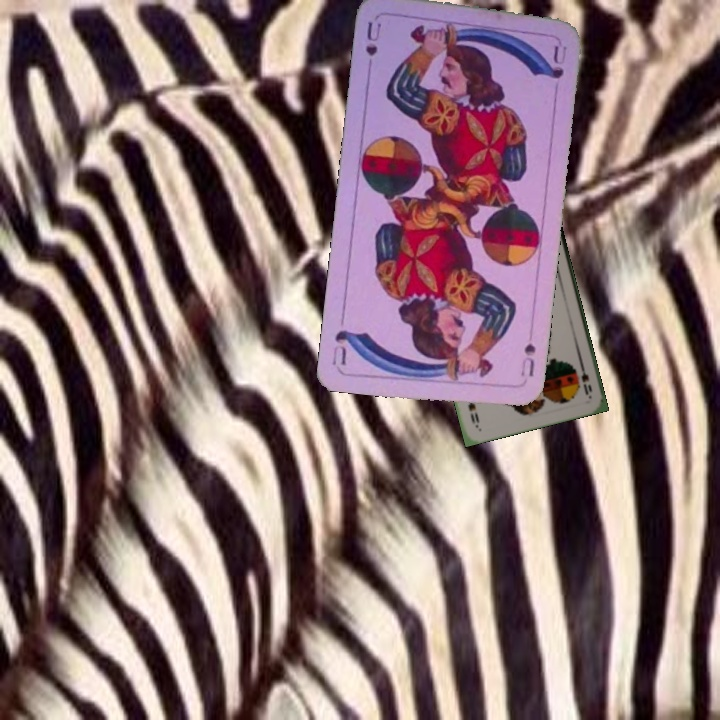SO: (576, 359, 594, 399)
SU: (361, 17, 384, 58), (516, 339, 538, 379)
